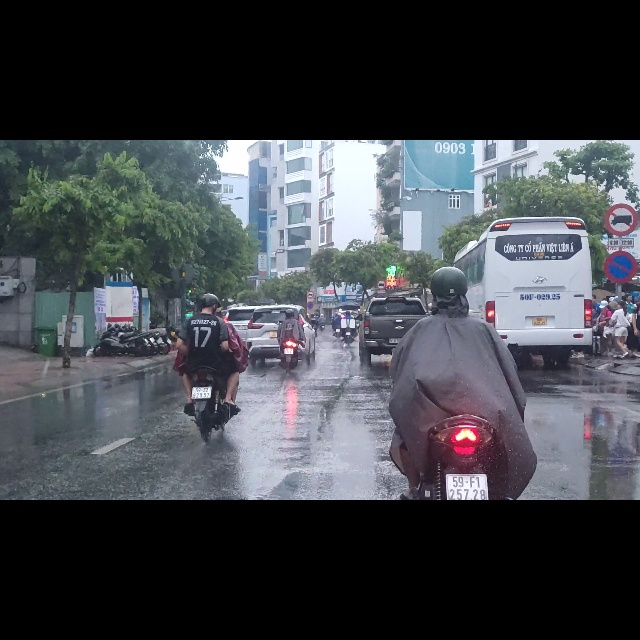bien_cam: (604, 192, 638, 257), (605, 111, 639, 171), (377, 248, 387, 266), (307, 268, 314, 281)
